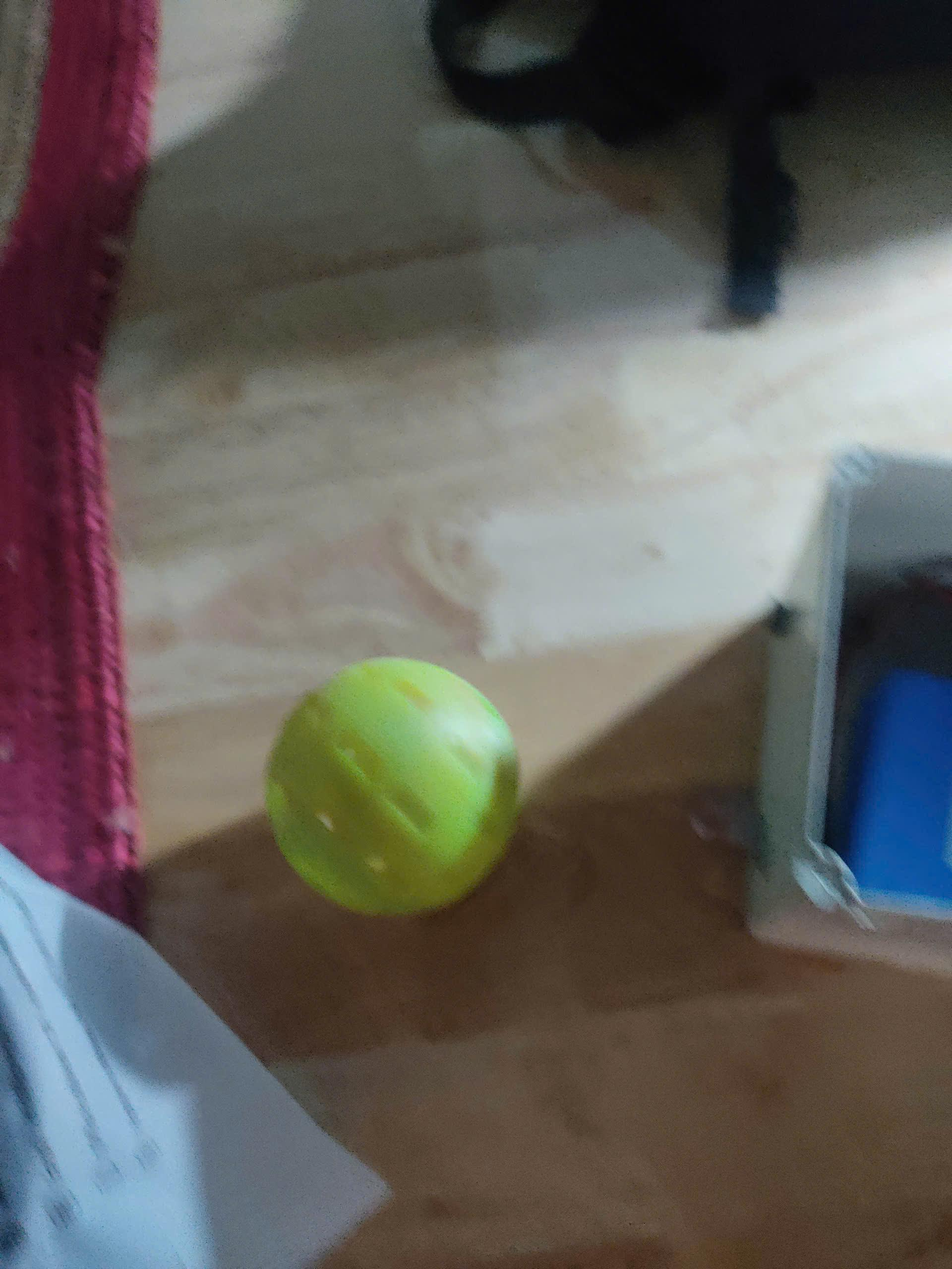ball: (260, 648, 528, 930)
